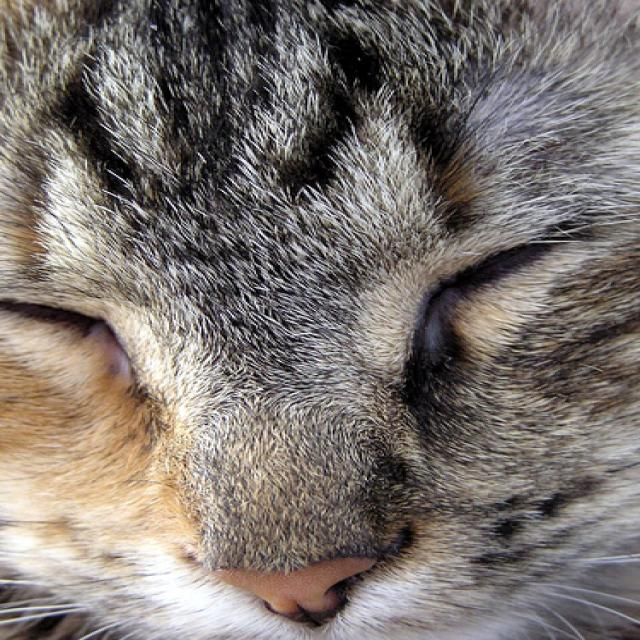cat: (1, 1, 639, 639)
